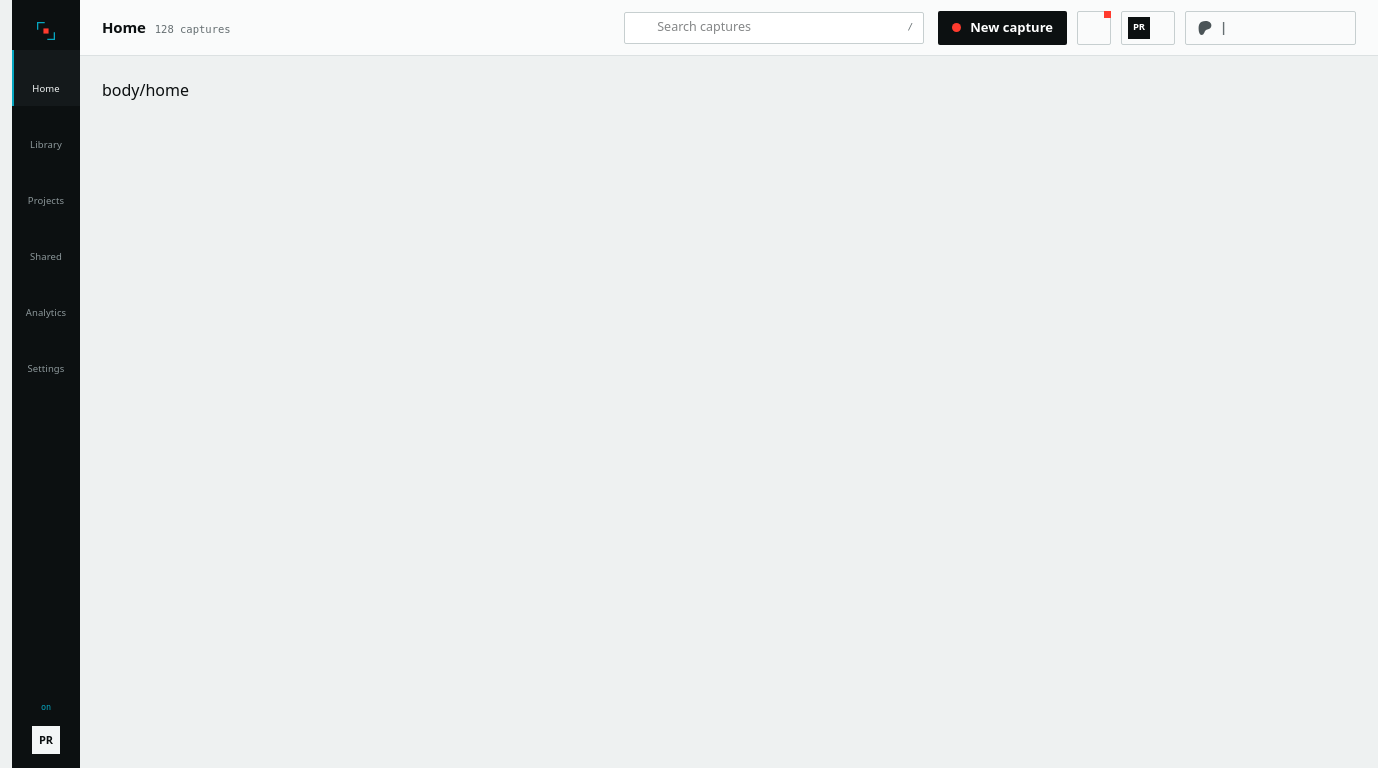
AppShell › the account menu › opens from the top bar avatar instead of navigating to Settings
This screenshot has width=1378, height=768.
Click the button with aria-label "Priya Raman": (1148, 28) 1121,10 -> 1175,44
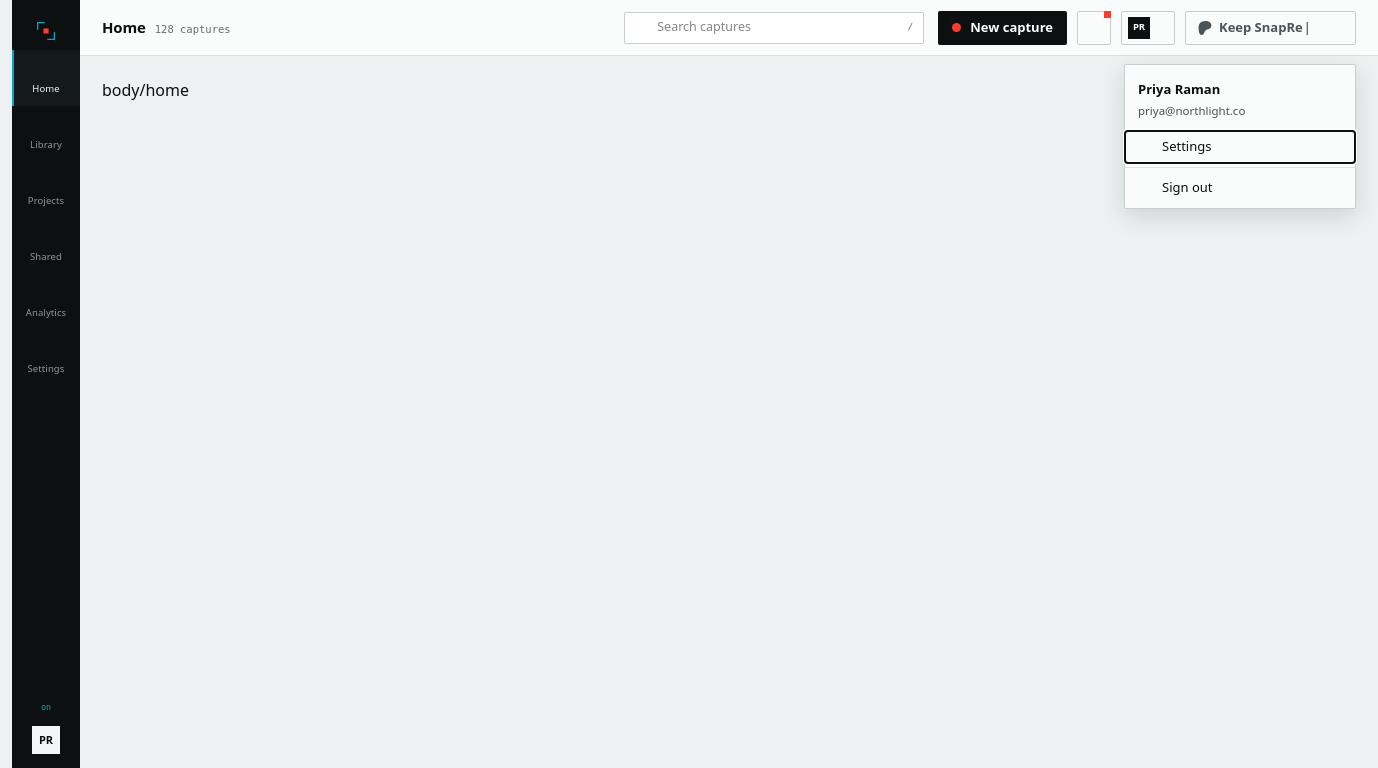
expect the text with test id "path" reads "/home": met, box 140,79 -> 189,101
expect the menu named "Account" is shown: met, box 1125,69 -> 1355,204
